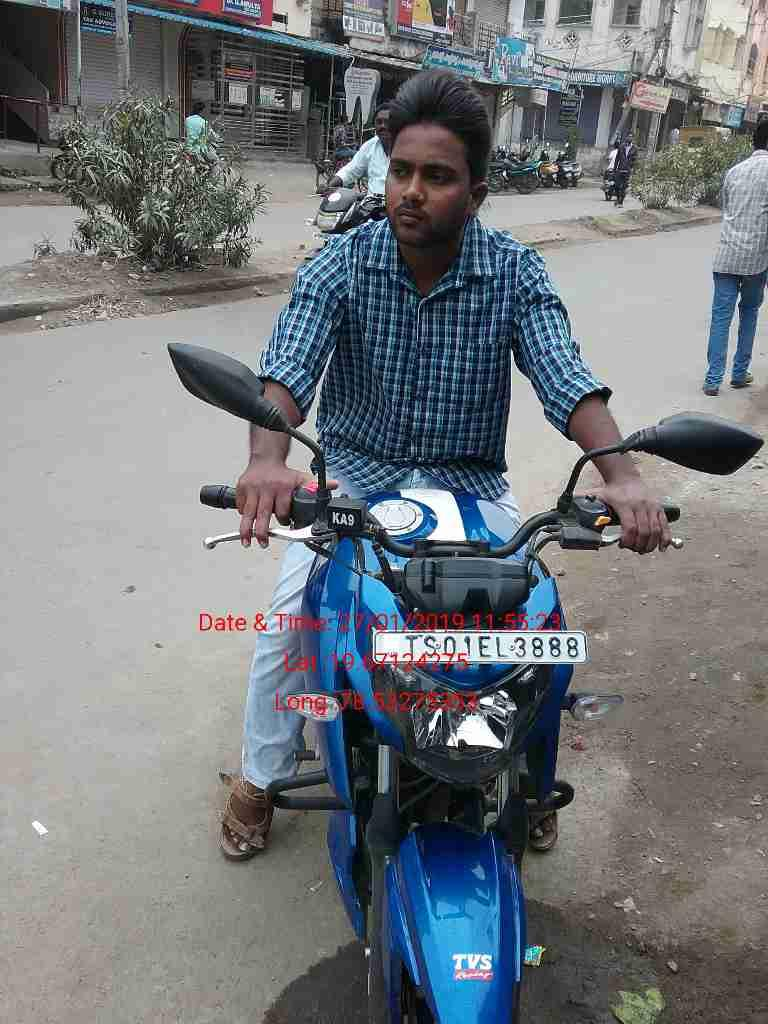plate: (372, 625, 596, 672)
